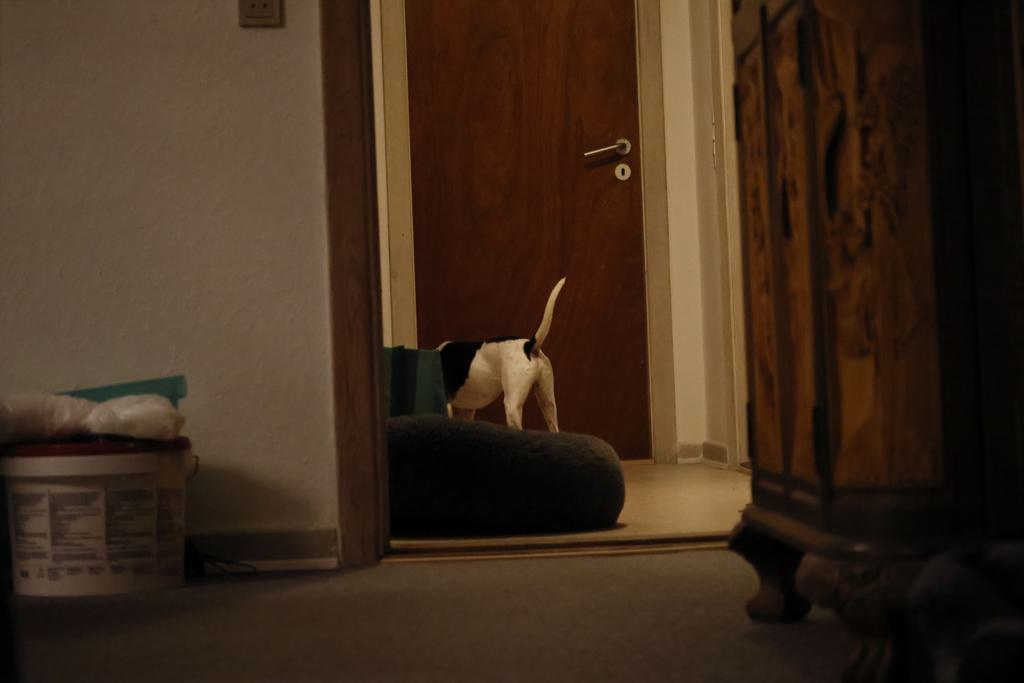Dog: (421, 271, 571, 441)
